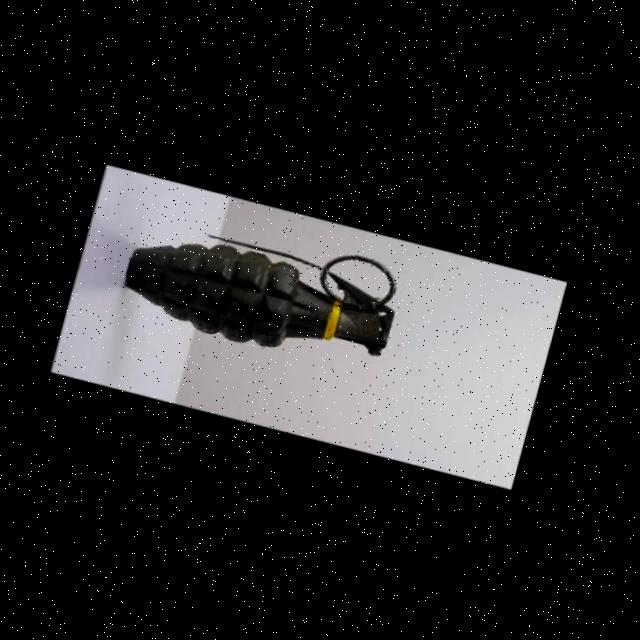grenade: (78, 186, 433, 397)
